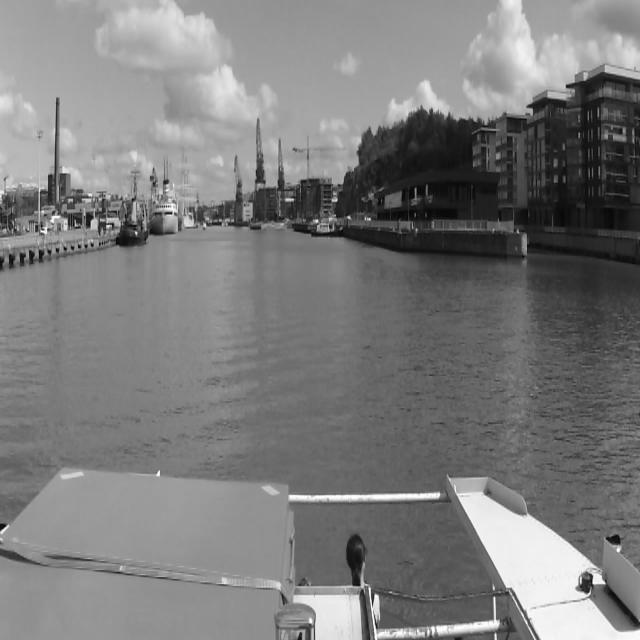ship: (121, 166, 147, 243), (152, 182, 178, 236), (179, 156, 195, 227), (314, 220, 344, 239), (202, 222, 206, 230)
